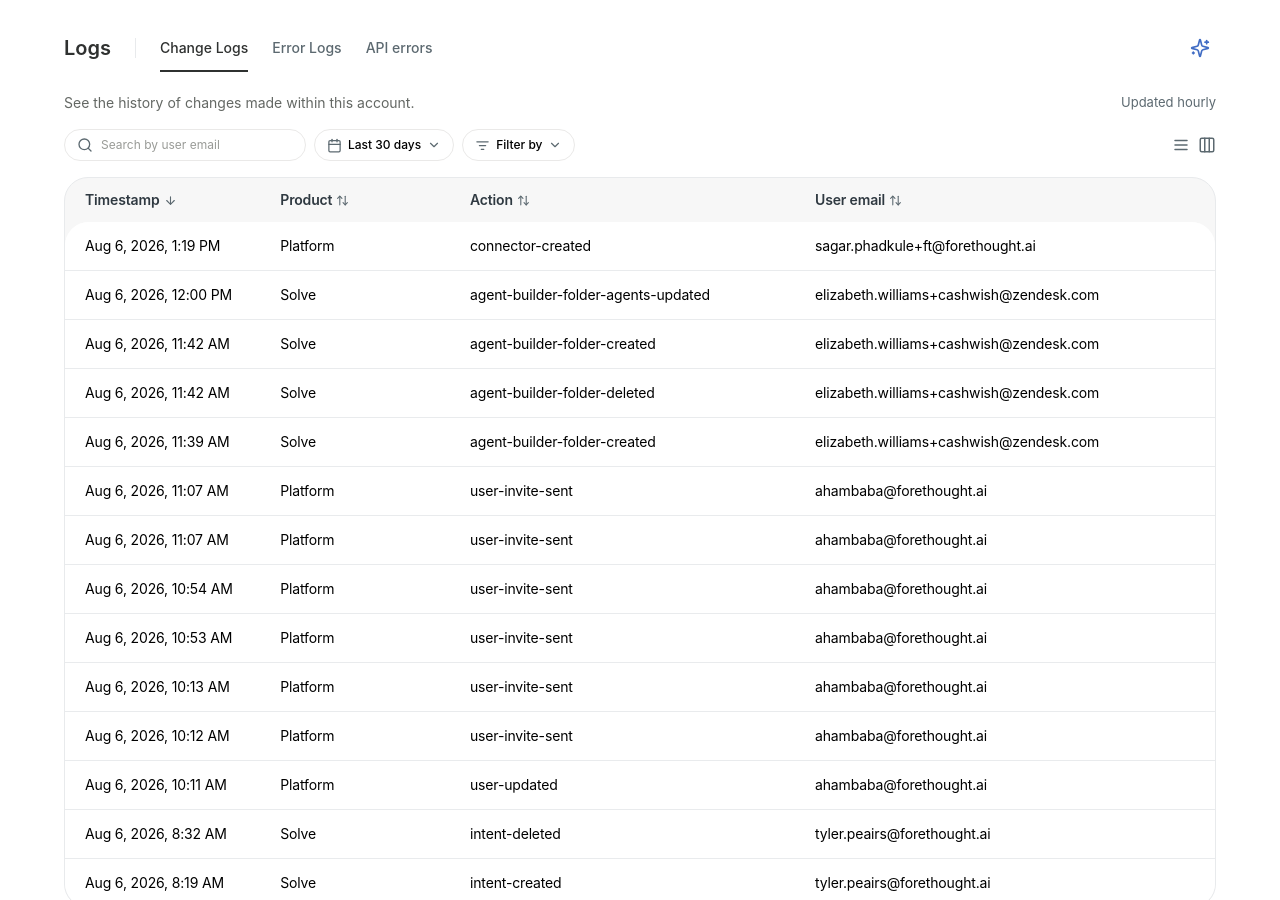
Test case: LogScreen › opens the Conversation Details drawer from an Error Logs row
Click the tab "Error Logs".
click(307, 54)  # box top-left (272, 36), bottom-right (342, 72)
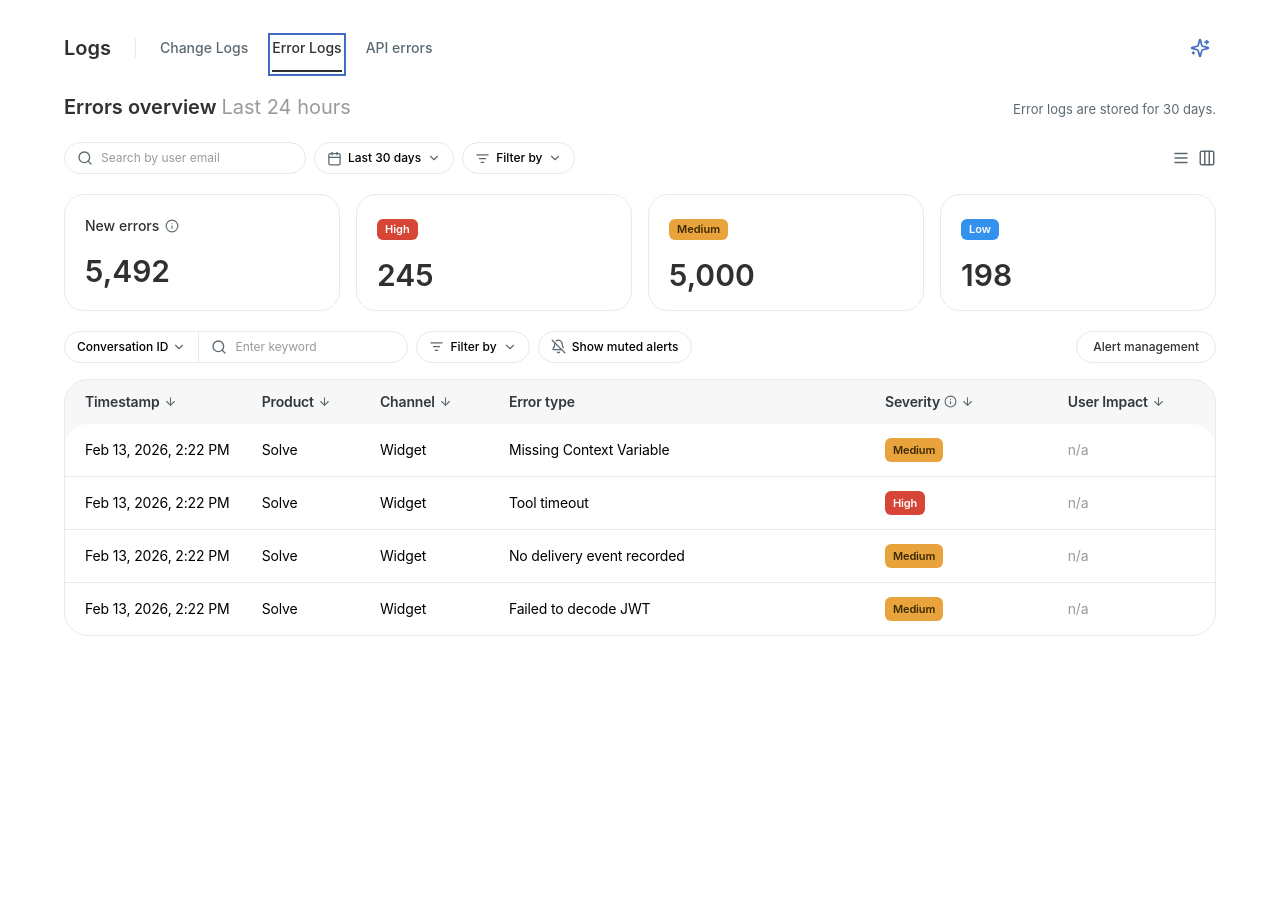
Click the button with test id "error-row-e1".
click(640, 450)  # box top-left (65, 424), bottom-right (1215, 476)
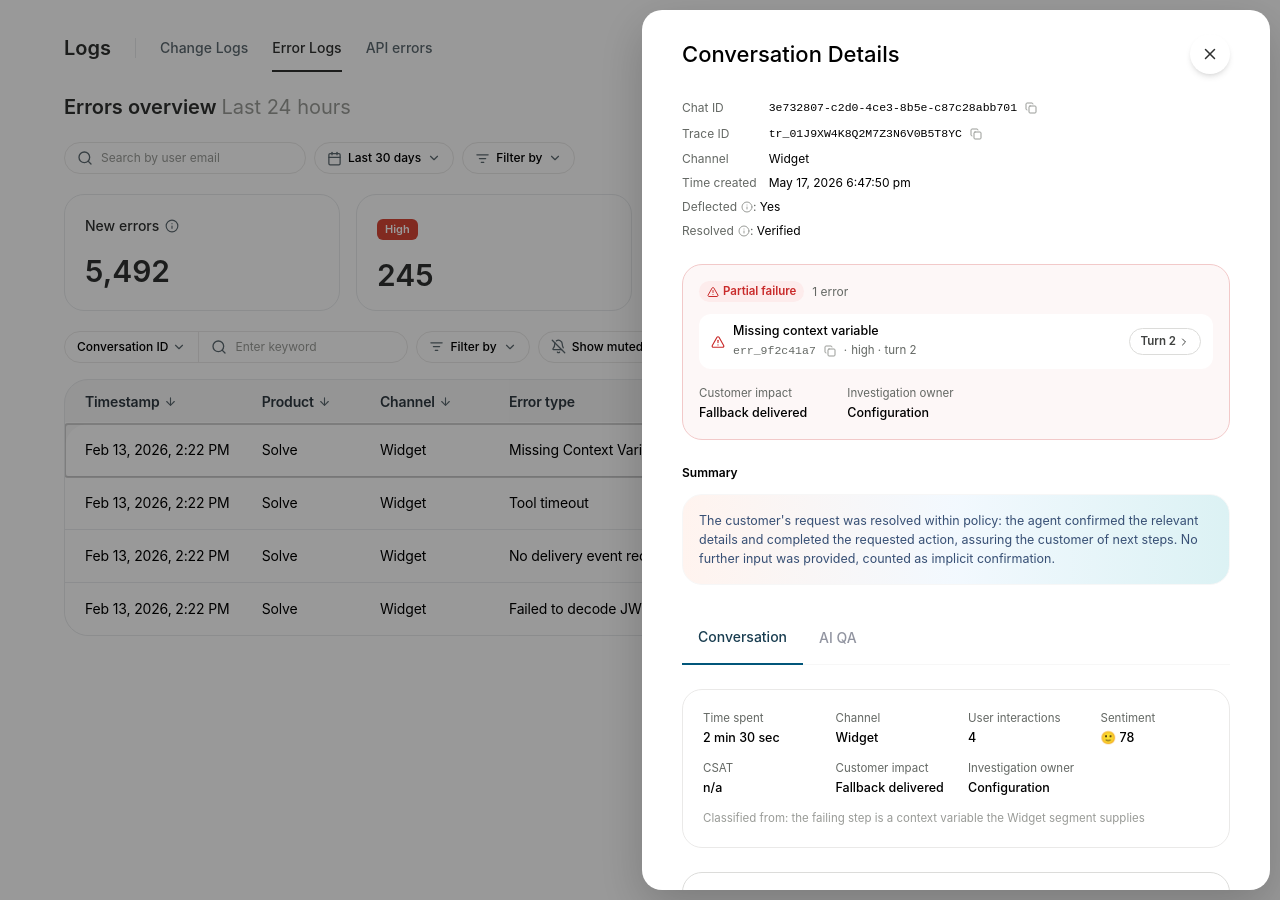
Expected: the element with test id "conversation-identity" shows "3e732807-c2d0-4ce3-8b5e-c87c28abb701", top-left (769, 101), bottom-right (1017, 114)
Press Escape
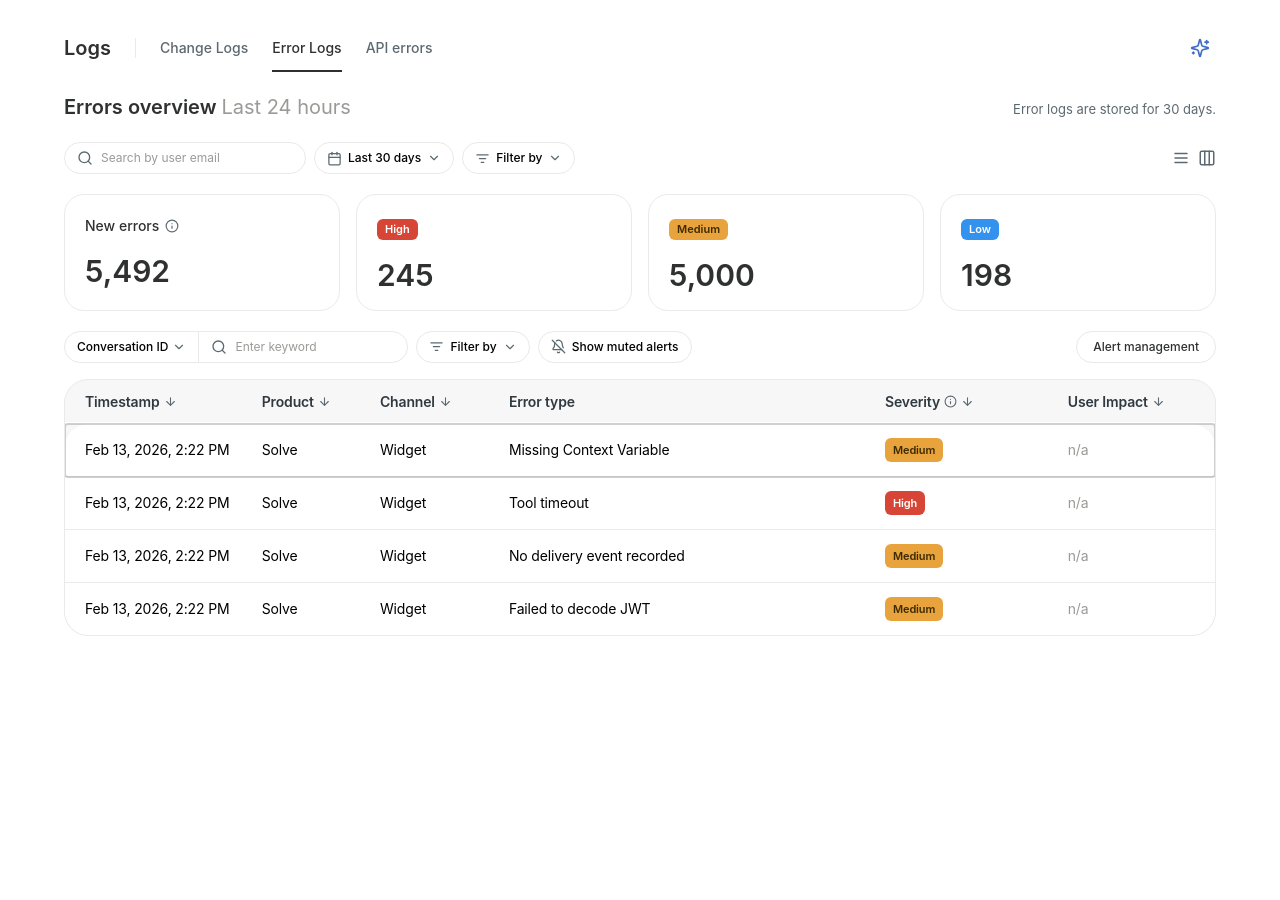
Expected: the heading "Conversation Details" is gone
